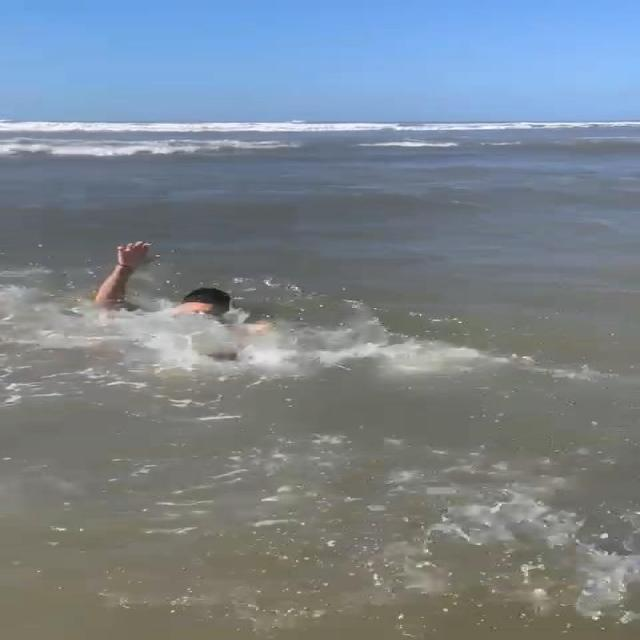Out of Water: (92, 235, 284, 338)
